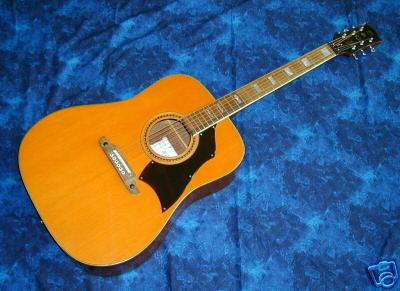guitar: (17, 20, 383, 277)
